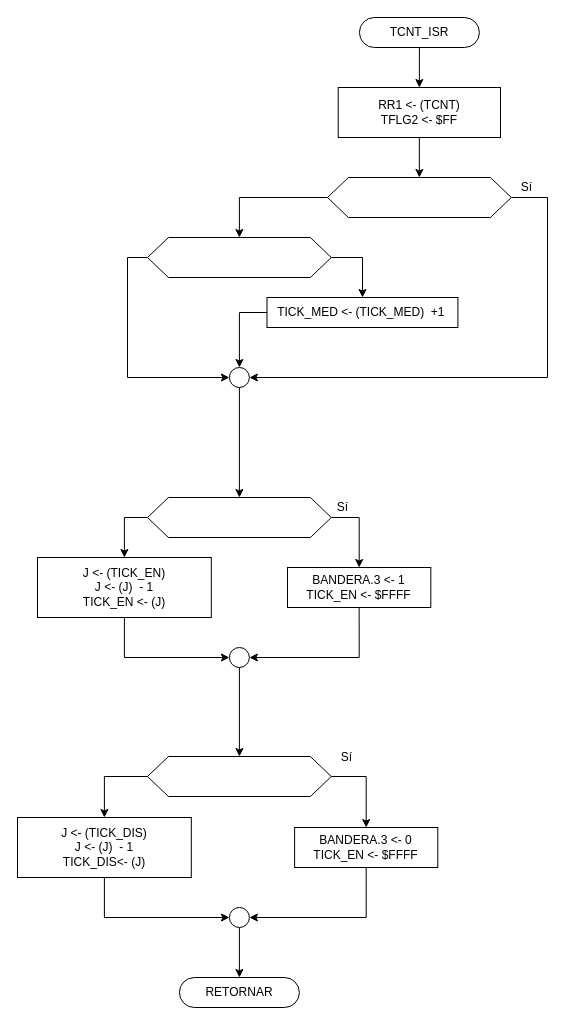
This 573x1025 diagram has some shape labels left out. The centre of each missing label's shape, as x and y in pixels:
"(TICK_DIS) = 0" goes at (x=238, y=776).
"(TICK_EN) = 0" goes at (x=238, y=517).
"(TICK_MED) = 255" goes at (x=418, y=197).
"BANDERA.4 = 1" goes at (x=238, y=257).
